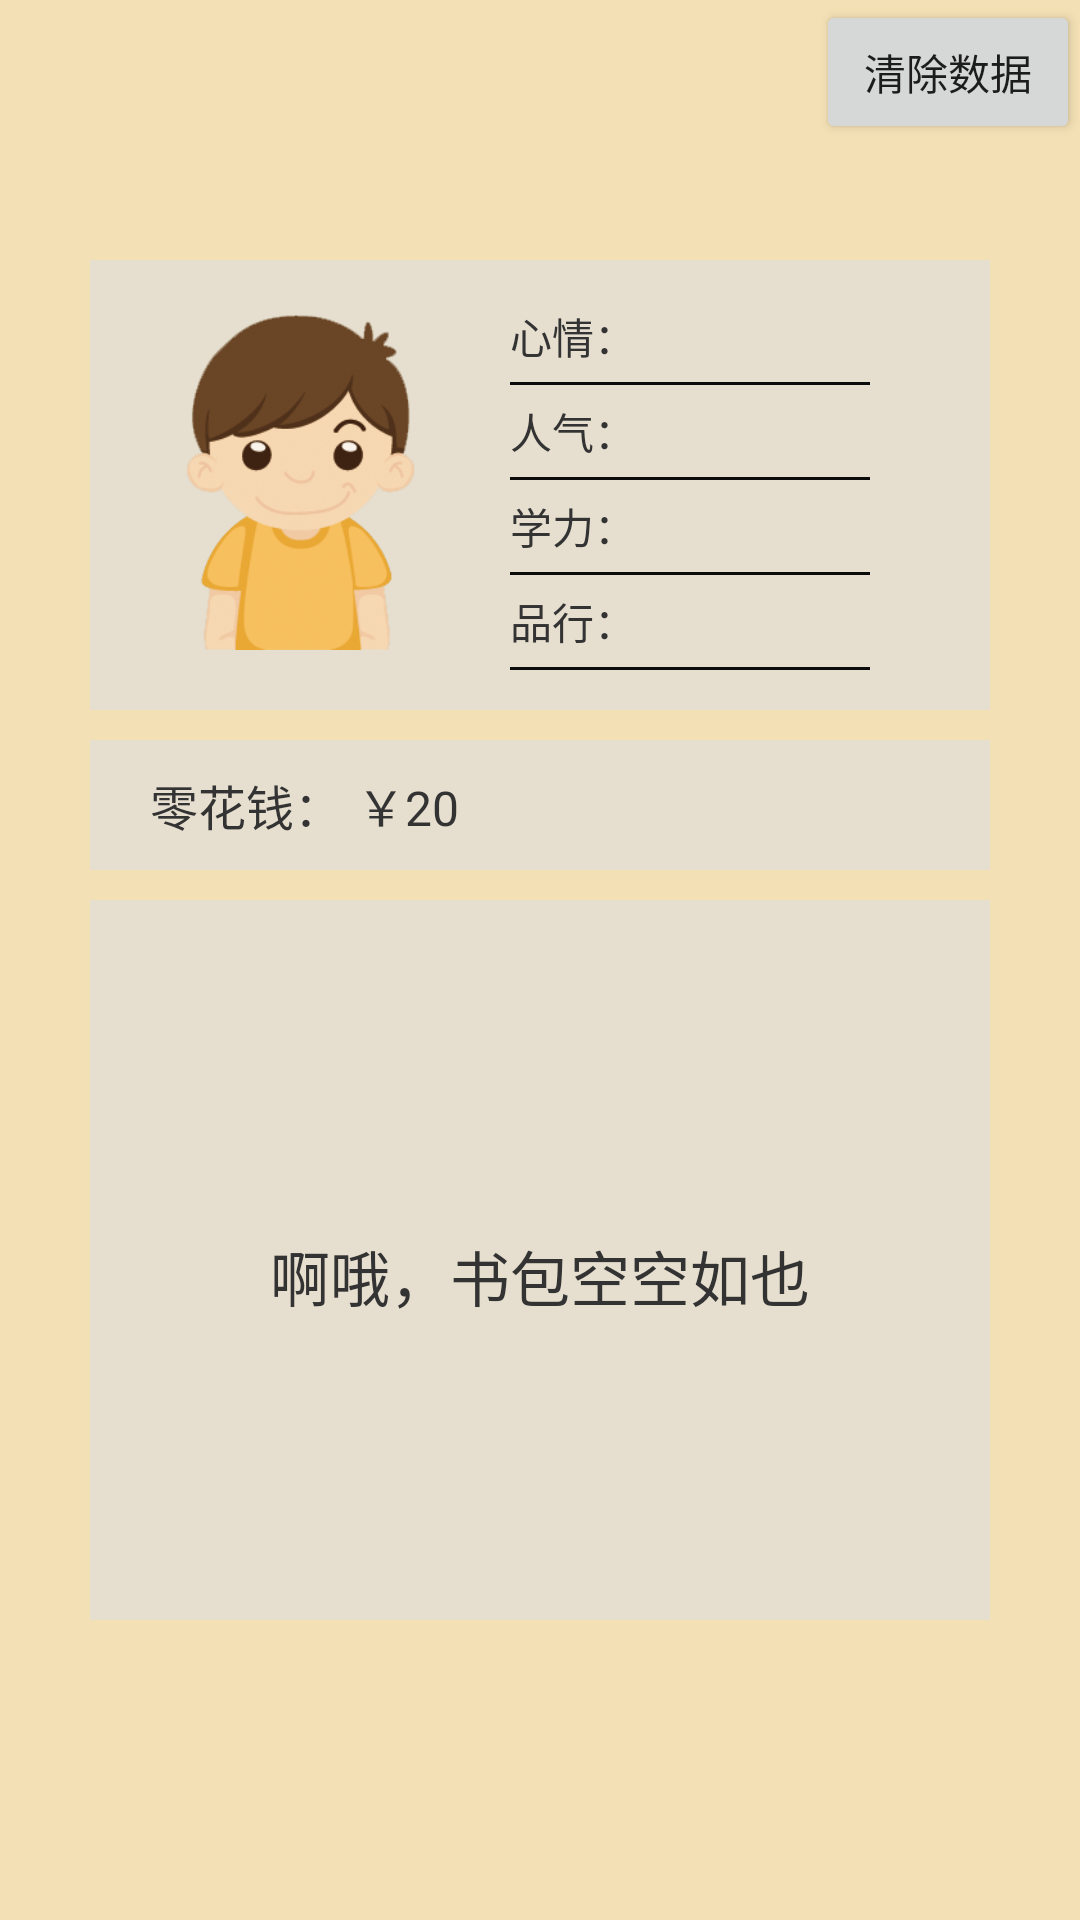

Screen size 1080x1920. Icon name, then its center in pixels as [x,y]:
chara: [300,482]
